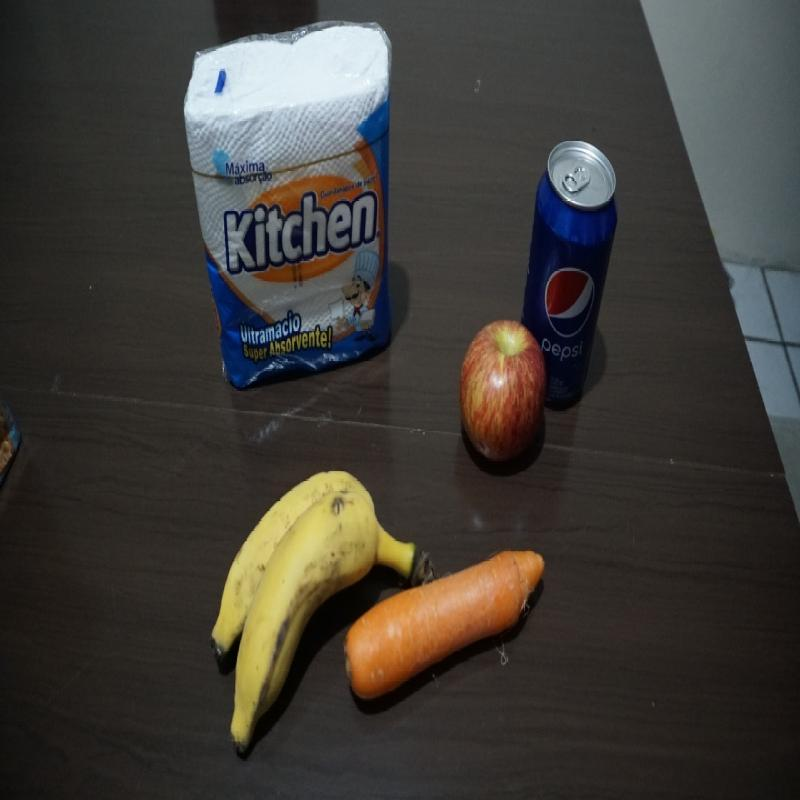Apple: (459, 313, 548, 464)
Banana: (209, 468, 436, 754)
Carrot: (339, 542, 550, 709)
Cracker: (1, 386, 29, 500)
Napkin: (179, 20, 406, 390)
Soda can: (520, 139, 620, 409)
